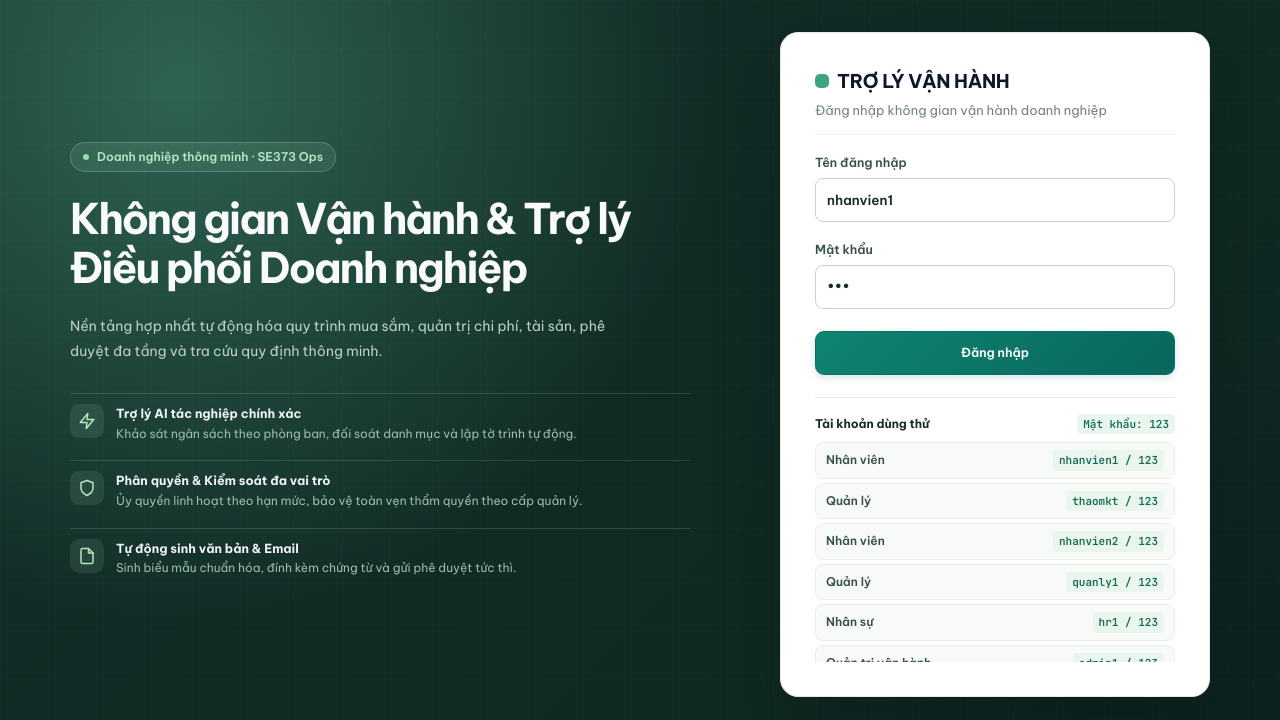
React route and role rendering › shows only active seeded demo accounts and lets a row fill the login fields
The image size is (1280, 720).
Click the button "Nhân viên nhanvien2 / 123": [855, 541] box [815,523,1175,560]
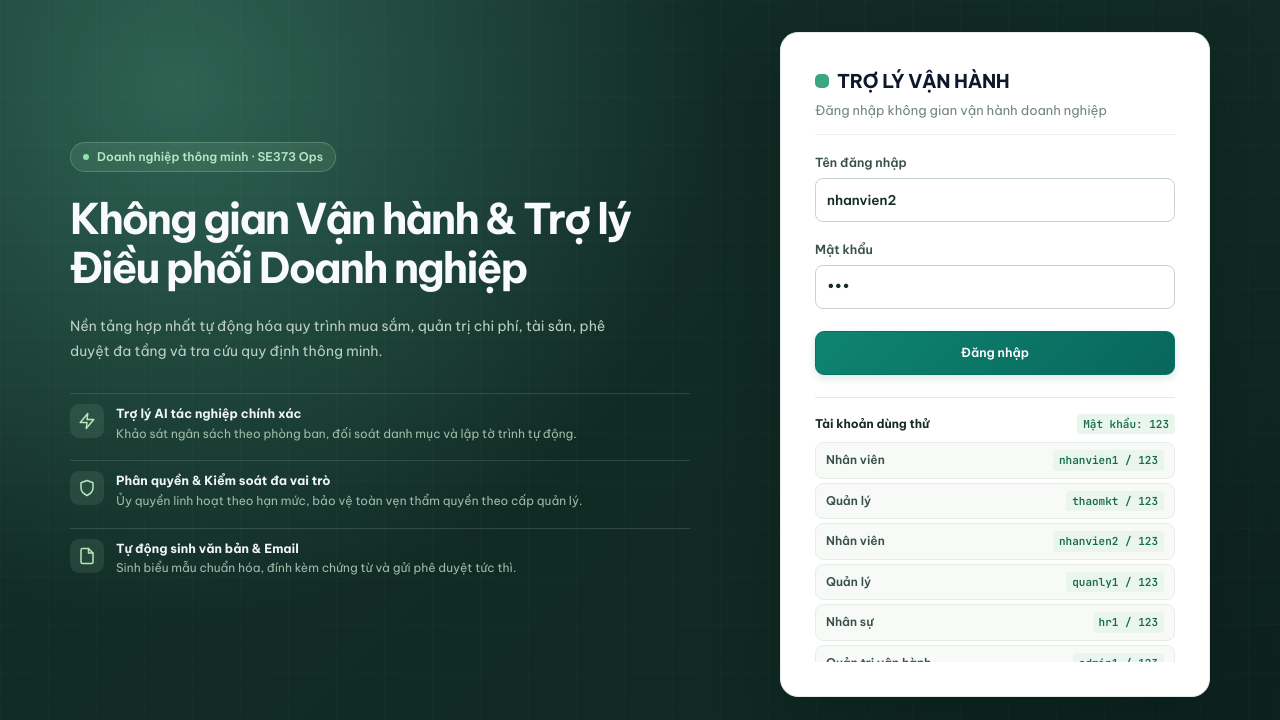
Check: the password field labelled "Mật khẩu" holds "123", box [815,264,1175,308]
Check: the field labelled "Tên đăng nhập" holds "nhanvien2", box [815,178,1175,222]
